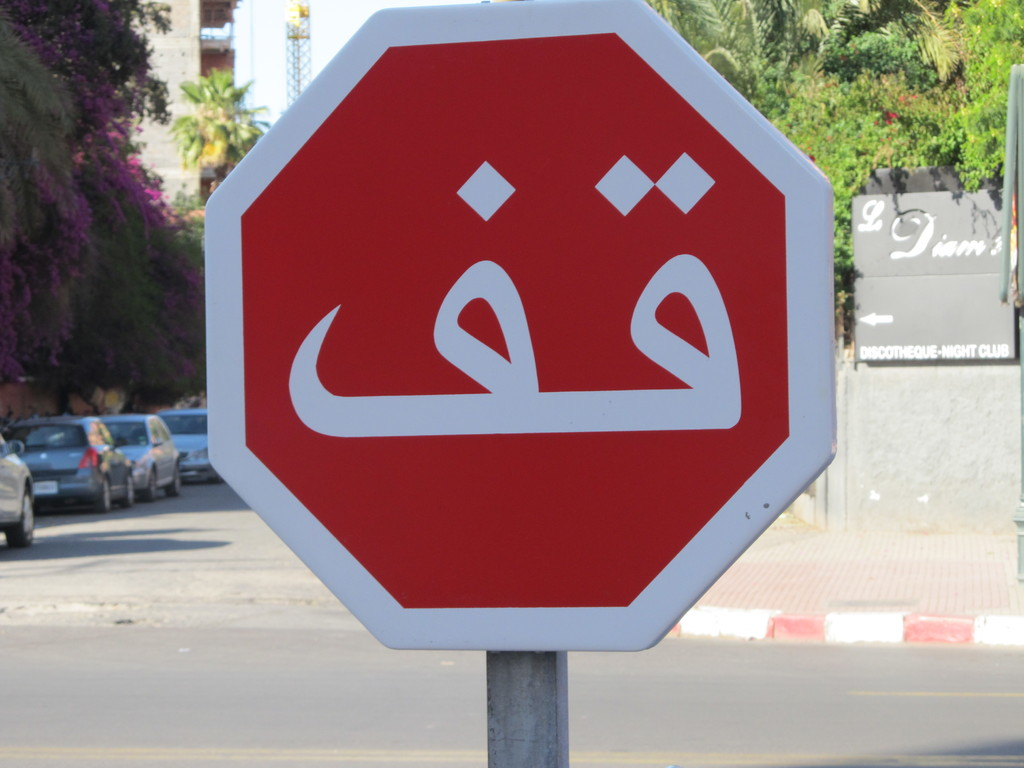Traffic_sign: (204, 0, 836, 651)
